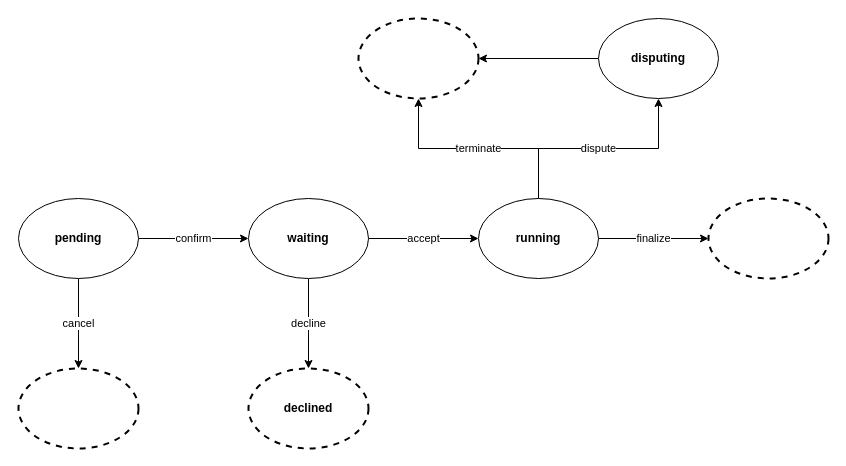
This 846x466 diagram has some shape labels left out. Each missing label, with the centre of its shape:
canceled: (78,408)
finalized: (768,238)
terminated: (418,58)
